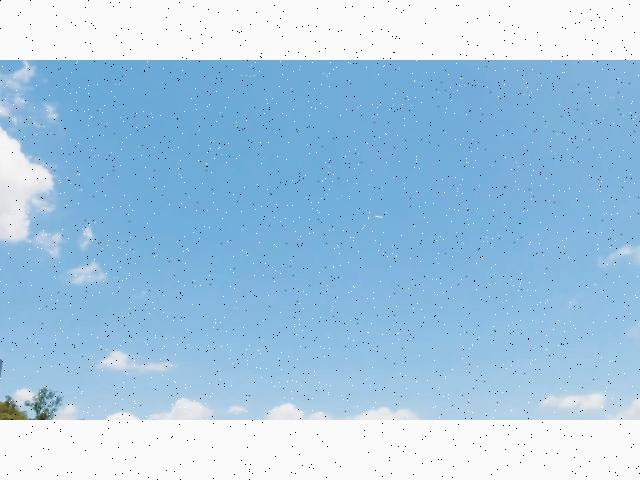Anti-Drone: (372, 205, 394, 227)
